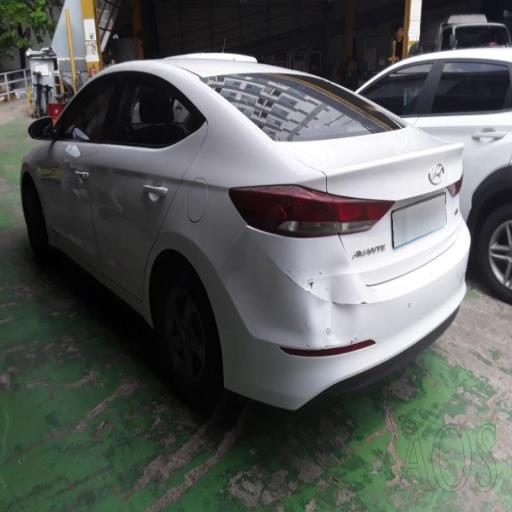dent: (287, 220, 372, 362)
